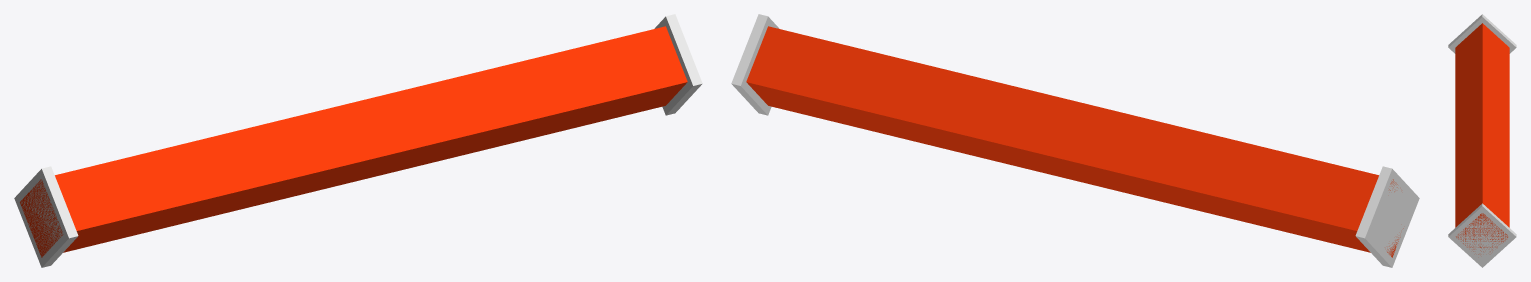
File: Small_Pipe_Straight.fbx
3 renders of one model, left to right at view 1: azimuth 30°, elevation 25°; view 2: azimuth 150°, elevation 25°; view 3: azimuth 270°, elevation 25°, orthographic. The views are drawn at different scales.
Parts seen in each view (by area): view 1: Cylinder; view 2: Cylinder; view 3: Cylinder.
Part boxes in pixels (x1,y1,x2,y2): Cylinder: (14, 14, 702, 267); Cylinder: (731, 14, 1419, 267); Cylinder: (1448, 14, 1516, 267).
Size of the model in its own units: 99.98 by 14.98 by 14.98.
